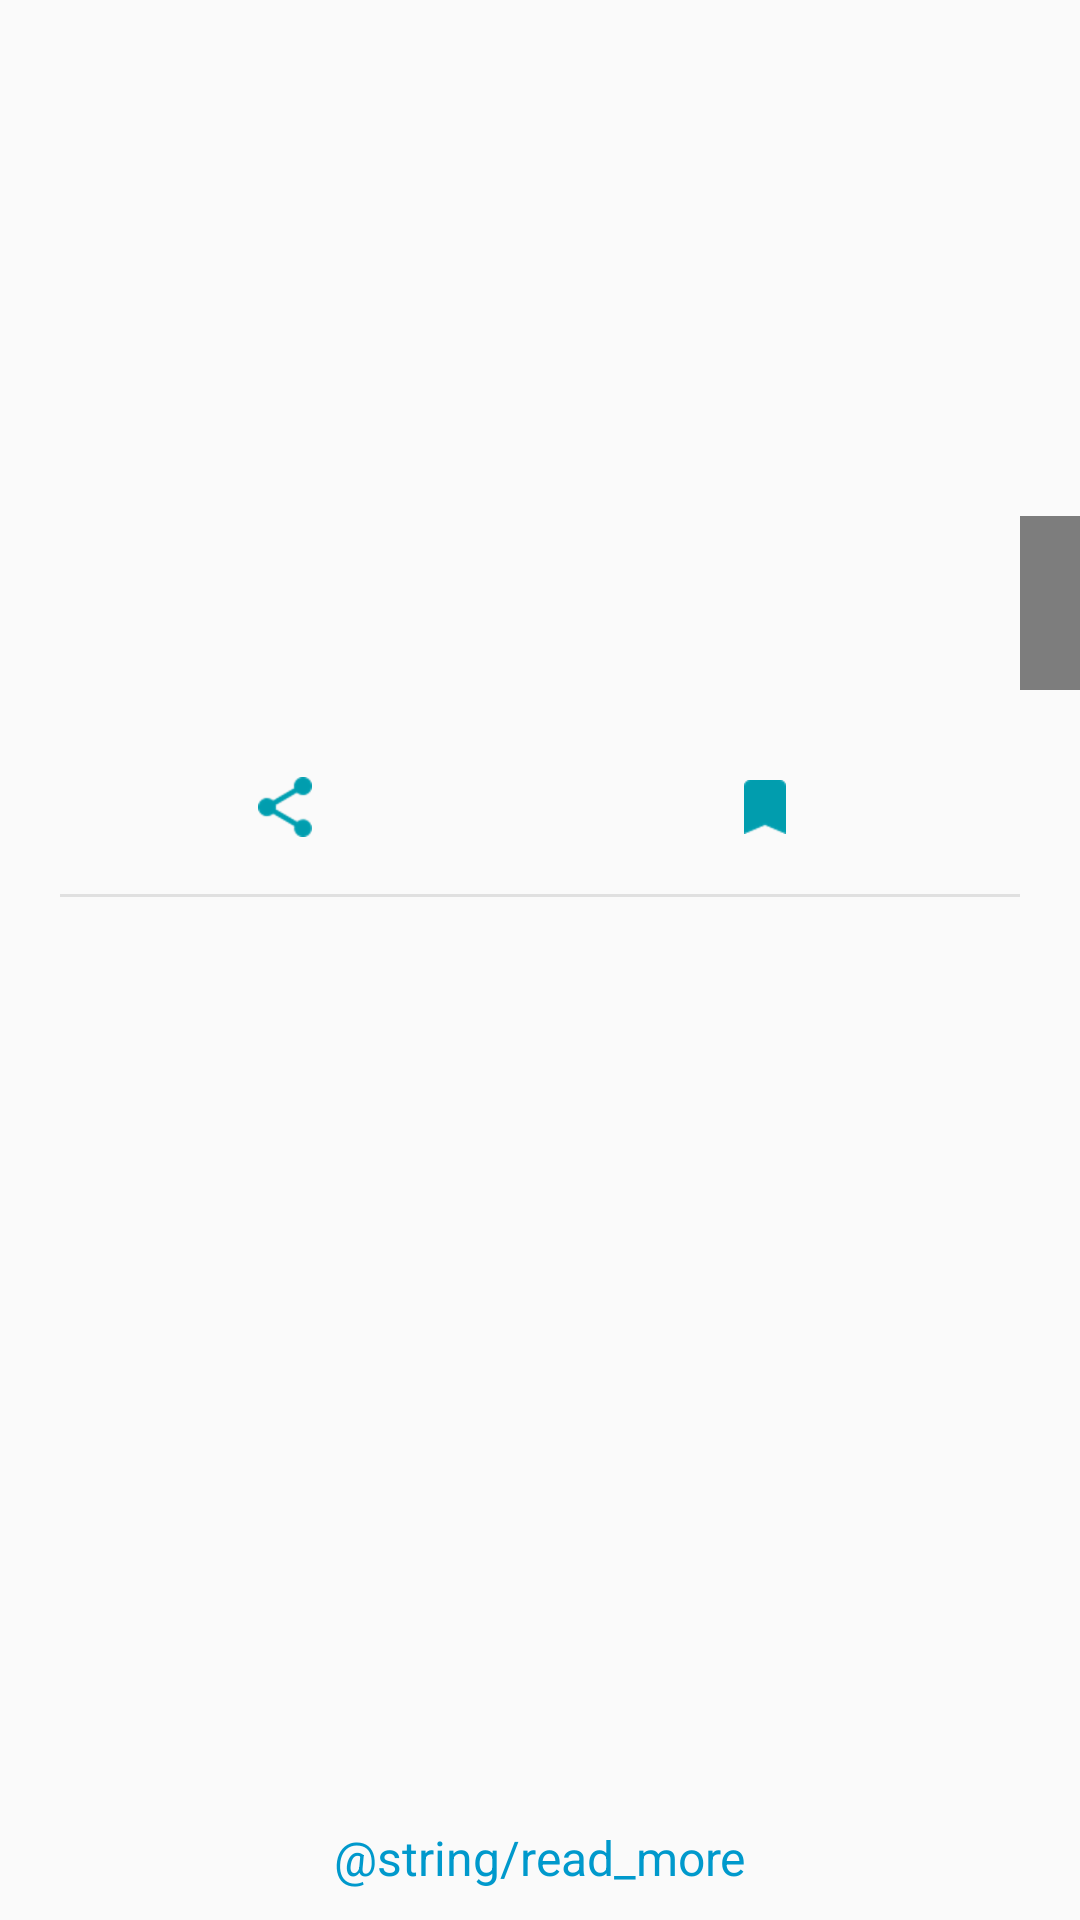

Icon bounding boxes for this 1080w x 1920h phone screenshot, format detection(x1, y1, x2, y2):
bookmark: detection(744, 780, 786, 834)
share: detection(258, 777, 312, 837)
